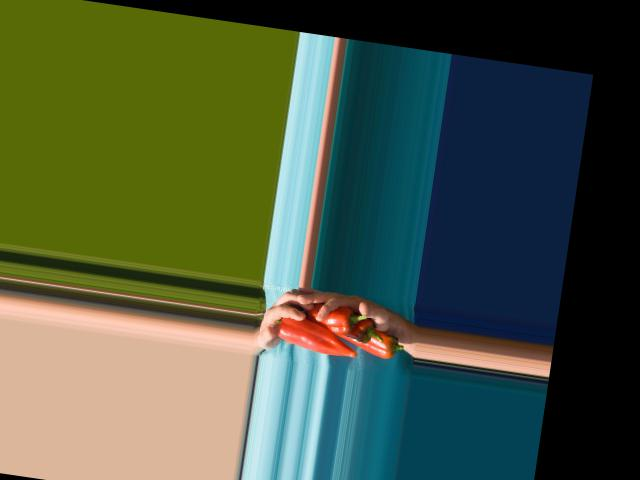bell_pepper: (349, 324, 406, 360)
